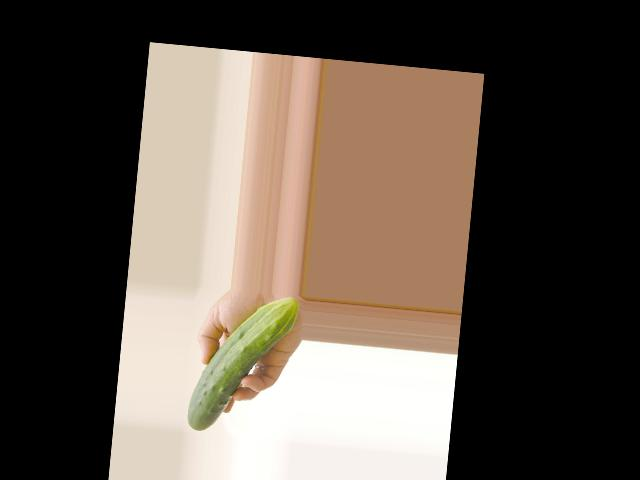cucumber: (187, 289, 300, 439)
